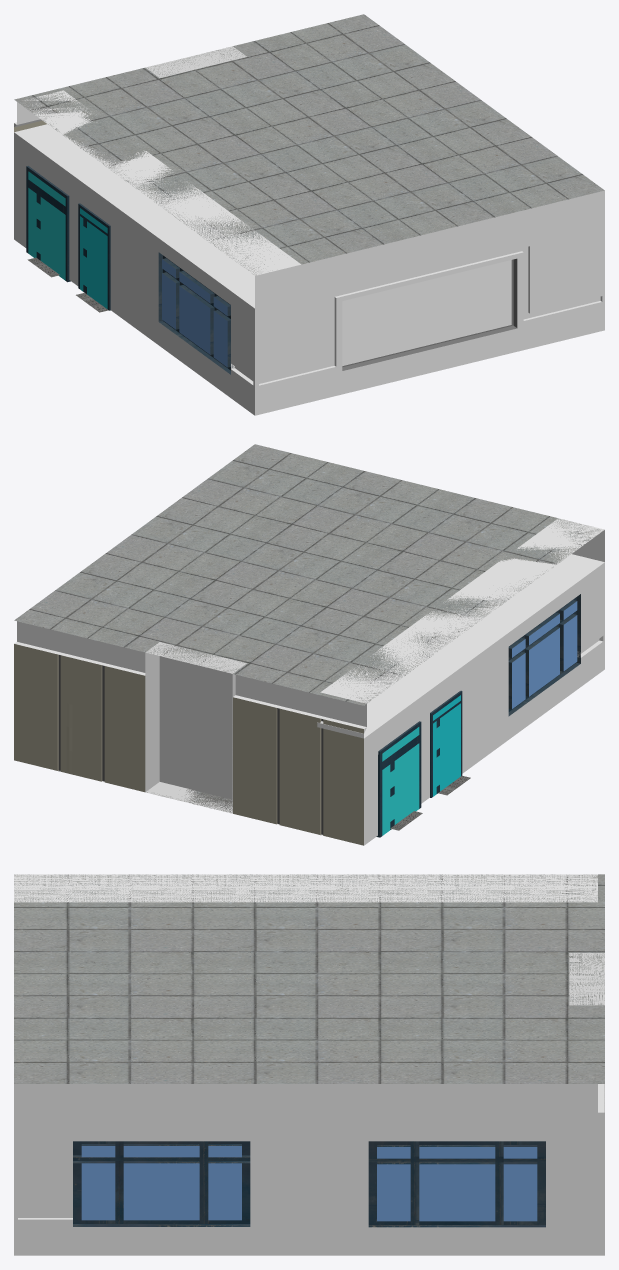
File: aulamejorada 1.fbx
3 views of the same model, one above another, from view 1: azimuth 30°, elevation 25°; view 2: azimuth 150°, elevation 25°; view 3: azimuth 270°, elevation 25° (orthographic). The views are drawn at different scales.
Visible parts, largest first — view 1: Techo, Paredes, Pizarron, Ventanas, PuertaGrande, Cube.001, Cube; view 2: Techo, Paredes, Cube, Ventanas, PuertaGrande, Cube.001, Piso; view 3: Techo, Paredes, Ventanas, Cube.
Part boxes in pixels (left/top/right/bottom): Techo: left=14, top=14, right=604, bottom=275; Paredes: left=14, top=90, right=604, bottom=415; Pizarron: left=342, top=258, right=517, bottom=370; Ventanas: left=158, top=252, right=232, bottom=374; PuertaGrande: left=26, top=166, right=70, bottom=282; Cube.001: left=78, top=203, right=110, bottom=310; Cube: left=146, top=46, right=246, bottom=77; Techo: left=14, top=444, right=602, bottom=705; Paredes: left=14, top=518, right=604, bottom=845; Cube: left=145, top=642, right=246, bottom=813; Ventanas: left=508, top=594, right=580, bottom=716; PuertaGrande: left=376, top=721, right=421, bottom=837; Cube.001: left=430, top=690, right=462, bottom=797; Piso: left=58, top=770, right=470, bottom=835; Techo: left=14, top=874, right=604, bottom=1083; Paredes: left=14, top=874, right=604, bottom=1255; Ventanas: left=73, top=1141, right=545, bottom=1227; Cube: left=569, top=953, right=604, bottom=1113.
Size of the model in its own units: 478 by 179 by 552.
